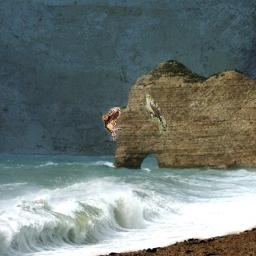Cuckoo: (146, 94, 166, 134)
Sparrow: (102, 107, 121, 142)
